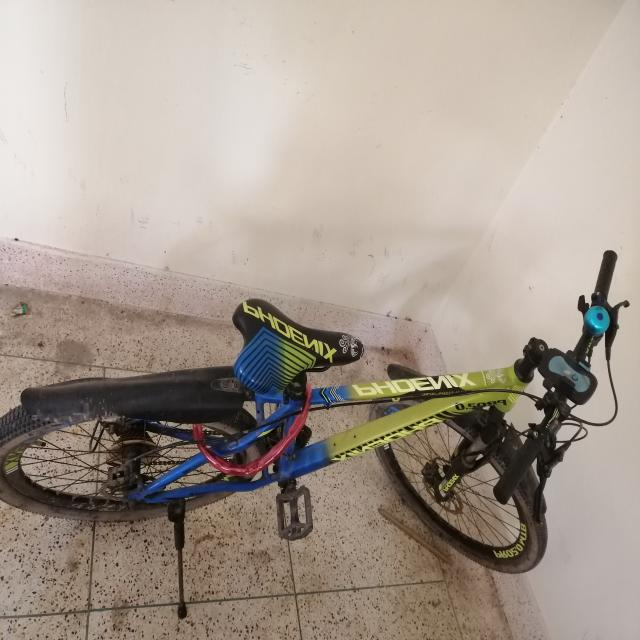Bicycle: (3, 208, 633, 631)
